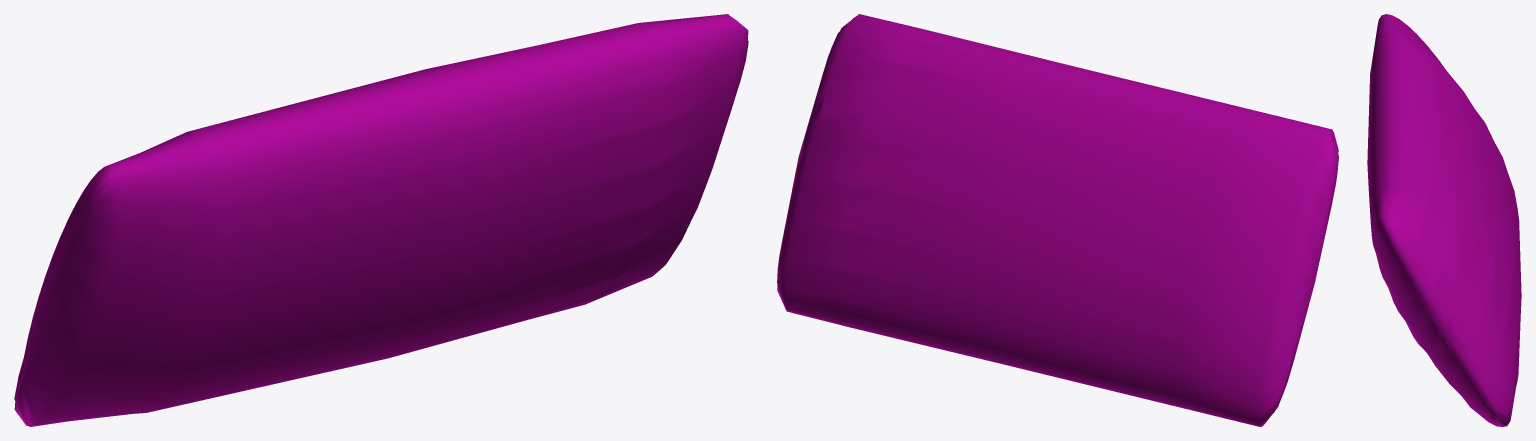
Rendered from ElfBed_Pillow.fbx.
The picture shows the model from 3 angles, left to right: view 1: azimuth 30°, elevation 25°; view 2: azimuth 150°, elevation 25°; view 3: azimuth 270°, elevation 25°; orthographic projection. The views are drawn at different scales.
Parts seen in each view (by area): view 1: polySurface10; view 2: polySurface10; view 3: polySurface10.
Boxes of the visible parts, x1,y1,x2,y2 form: polySurface10: [14, 14, 748, 426]; polySurface10: [777, 14, 1338, 426]; polySurface10: [1367, 14, 1521, 426].
Bounding box in the file's own units: 2.31 × 1.09 × 0.6906.
